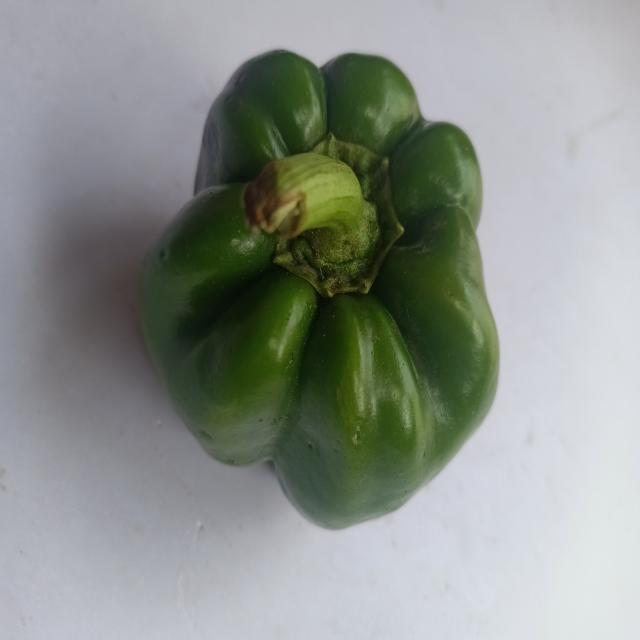Capsicum: (135, 35, 520, 532)
